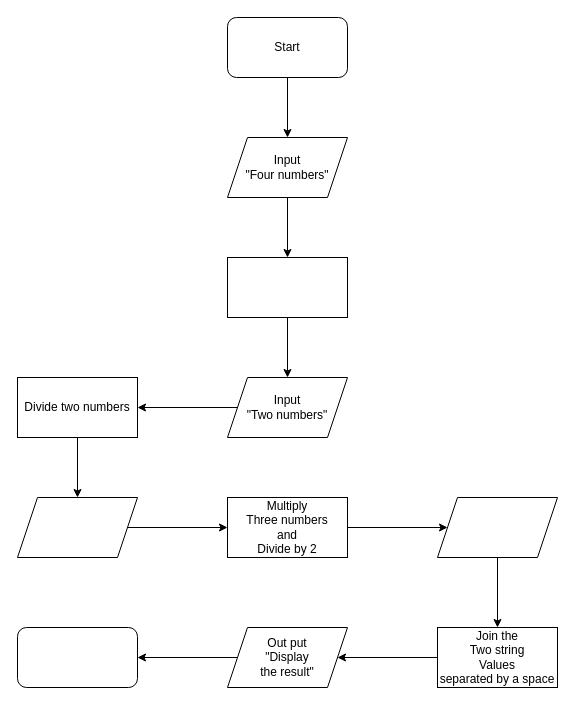
This 575x705 diagram has some shape labels left out. Each missing label, with the box of its shape:
Add All the numbers and Divide by 7: (226, 256, 348, 318)
End: (16, 626, 138, 688)
Input "Three numbers": (16, 496, 138, 558)
Input "Two strings": (436, 496, 558, 558)
